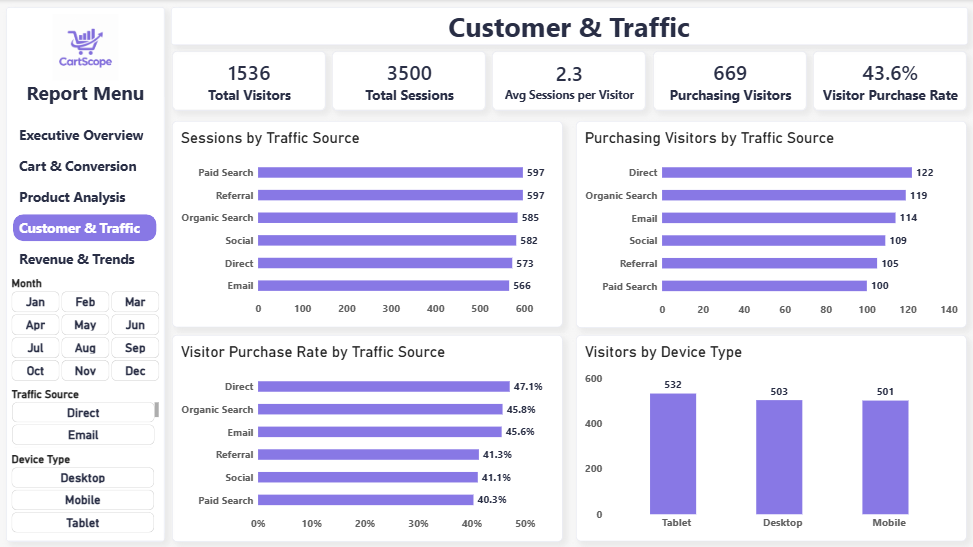

Layout of this report page (visuals, bound fields, positions):
{"tool":"powerbi","page":{"name":"Customer & Traffic","canvas":[1920,1080],"ordinal":3},"visuals":[{"type":"cardVisual","title":"Total Revenue","fields":{"Data":["_Measures.Total Visitors"]},"box":[341.6,101.4,302,116.8],"z":0},{"type":"cardVisual","title":"Total Revenue","fields":{"Data":["_Measures.Total Sessions"]},"box":[656.2,101.4,302,116.8],"z":1000},{"type":"cardVisual","title":"Total Revenue","fields":{"Data":["_Measures.Purchasing Visitors"]},"box":[1285.4,101.4,302,116.8],"z":2000},{"type":"cardVisual","title":"Total Revenue","fields":{"Data":["_Measures.Average Sessions per Visitor"]},"box":[970.8,101.4,302,116.8],"z":3000},{"type":"cardVisual","title":"Total Revenue","fields":{"Data":["_Measures.Visitor Purchase Rate"]},"box":[1600,102.2,302,116.8],"z":5000},{"type":"clusteredBarChart","title":"Sessions by Traffic Source","fields":{"Category":["sessions.traffic_source"],"Y":["_Measures.Total Sessions"]},"box":[341.6,239,767,405],"z":6000},{"type":"clusteredBarChart","title":"Purchasing Visitors by Traffic Source","fields":{"Category":["sessions.traffic_source"],"Y":["_Measures.Purchasing Visitors"]},"box":[1135.1,239,767,405.6],"z":7000},{"type":"clusteredColumnChart","title":"Visitors by Device Type","fields":{"Category":["sessions.device_type"],"Y":["_Measures.Total Visitors"]},"box":[1135,659,767,405],"z":8000},{"type":"clusteredBarChart","title":"Visitor Purchase Rate by Traffic Source","fields":{"Category":["sessions.traffic_source"],"Y":["_Measures.Visitor Purchase Rate"]},"box":[341.6,659,767,405.6],"z":9000},{"type":"shape","box":[15,15,312,1050],"z":10000},{"type":"shape","box":[340,15,1565,75],"z":11000},{"type":"textbox","box":[342.5,15,1560,75],"z":12000},{"type":"pageNavigator","box":[30,240,282,300],"z":13000},{"type":"image","box":[16,30,312,130],"z":14000},{"type":"textbox","box":[16,160,312,58],"z":15000},{"type":"advancedSlicerVisual","title":"Month","fields":{"Values":["sessions.Session Month Short"]},"box":[22.5,540,300,217.5],"z":16000},{"type":"advancedSlicerVisual","title":"Traffic Source","fields":{"Values":["sessions.traffic_source"]},"box":[22,758.2,299.8,127.8],"z":17000},{"type":"advancedSlicerVisual","title":"Device Type","fields":{"Values":["sessions.device_type"]},"box":[22,886,299.8,178.5],"z":18000}]}

Visuals, with their boxes in screenshot pixels (x1, y1, x2, y2), scaled from the page's 1920x1080 canvas onto the 973x547 screenshot:
"Total Revenue" cardVisual: [x1=173, y1=51, x2=326, y2=111]
"Total Revenue" cardVisual: [x1=333, y1=51, x2=486, y2=111]
"Total Revenue" cardVisual: [x1=651, y1=51, x2=804, y2=111]
"Total Revenue" cardVisual: [x1=492, y1=51, x2=645, y2=111]
"Total Revenue" cardVisual: [x1=811, y1=52, x2=964, y2=111]
"Sessions by Traffic Source" clusteredBarChart: [x1=173, y1=121, x2=562, y2=326]
"Purchasing Visitors by Traffic Source" clusteredBarChart: [x1=575, y1=121, x2=964, y2=326]
"Visitors by Device Type" clusteredColumnChart: [x1=575, y1=334, x2=964, y2=539]
"Visitor Purchase Rate by Traffic Source" clusteredBarChart: [x1=173, y1=334, x2=562, y2=539]
shape: [x1=8, y1=8, x2=166, y2=539]
shape: [x1=172, y1=8, x2=965, y2=46]
textbox: [x1=174, y1=8, x2=964, y2=46]
pageNavigator: [x1=15, y1=122, x2=158, y2=274]
image: [x1=8, y1=15, x2=166, y2=81]
textbox: [x1=8, y1=81, x2=166, y2=110]
"Month" advancedSlicerVisual: [x1=11, y1=274, x2=163, y2=384]
"Traffic Source" advancedSlicerVisual: [x1=11, y1=384, x2=163, y2=449]
"Device Type" advancedSlicerVisual: [x1=11, y1=449, x2=163, y2=539]
